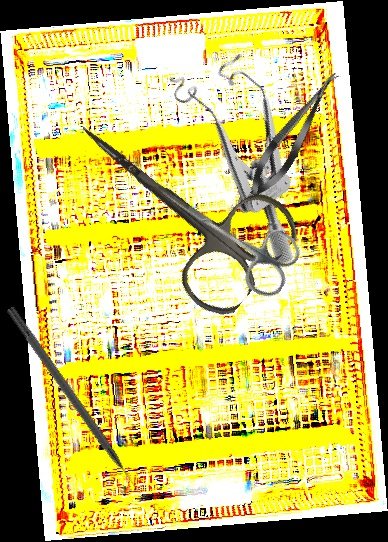Hook Surgical: (4, 305, 146, 499)
Iris Scissors: (42, 74, 307, 328), (141, 164, 308, 304)
Micro Scissor: (240, 64, 349, 204)
Speculum: (151, 35, 357, 268)
